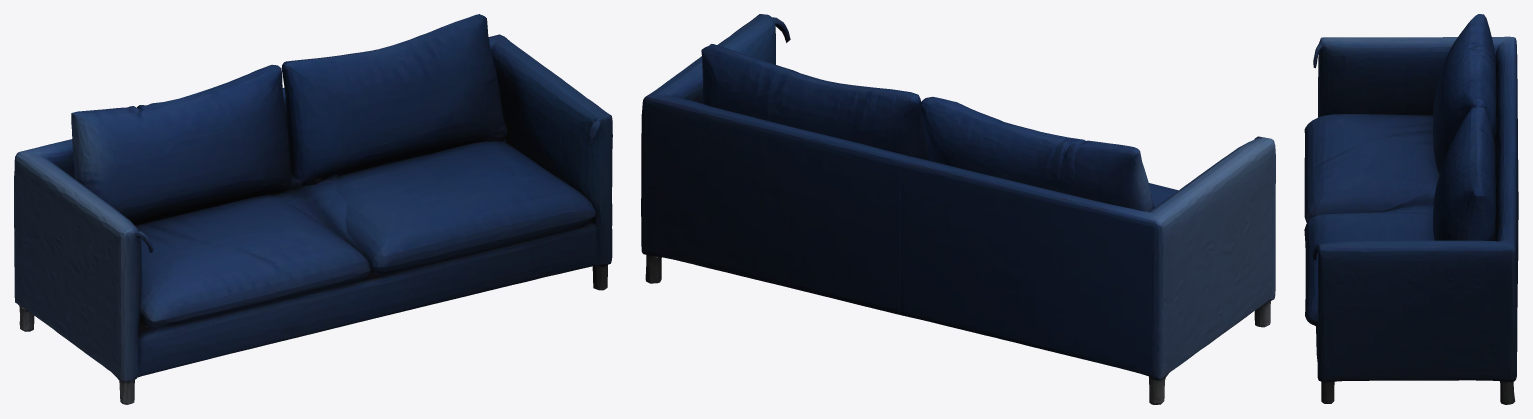
The model's file is ast_5b314219acf0.glb.
3 renders of one model, left to right at view 1: azimuth 30°, elevation 25°; view 2: azimuth 150°, elevation 25°; view 3: azimuth 270°, elevation 25°, orthographic. The views are drawn at different scales.
Parts seen in each view (by area): view 1: geometry_0; view 2: geometry_0; view 3: geometry_0.
Boxes of the visible parts, bbox=[...] form: geometry_0: bbox=[14, 14, 612, 404]; geometry_0: bbox=[641, 14, 1275, 404]; geometry_0: bbox=[1304, 14, 1518, 404].
Size of the model in its own units: 0.9904 by 0.4218 by 0.4159.
Materials: 1 (1 with a texture image).
